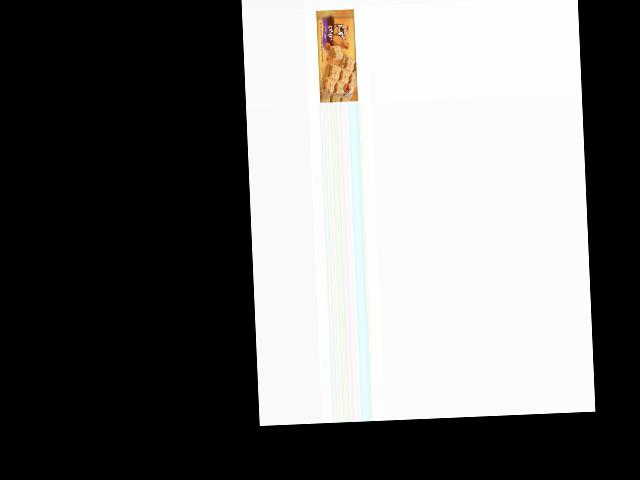chocolate: (313, 6, 357, 103)
